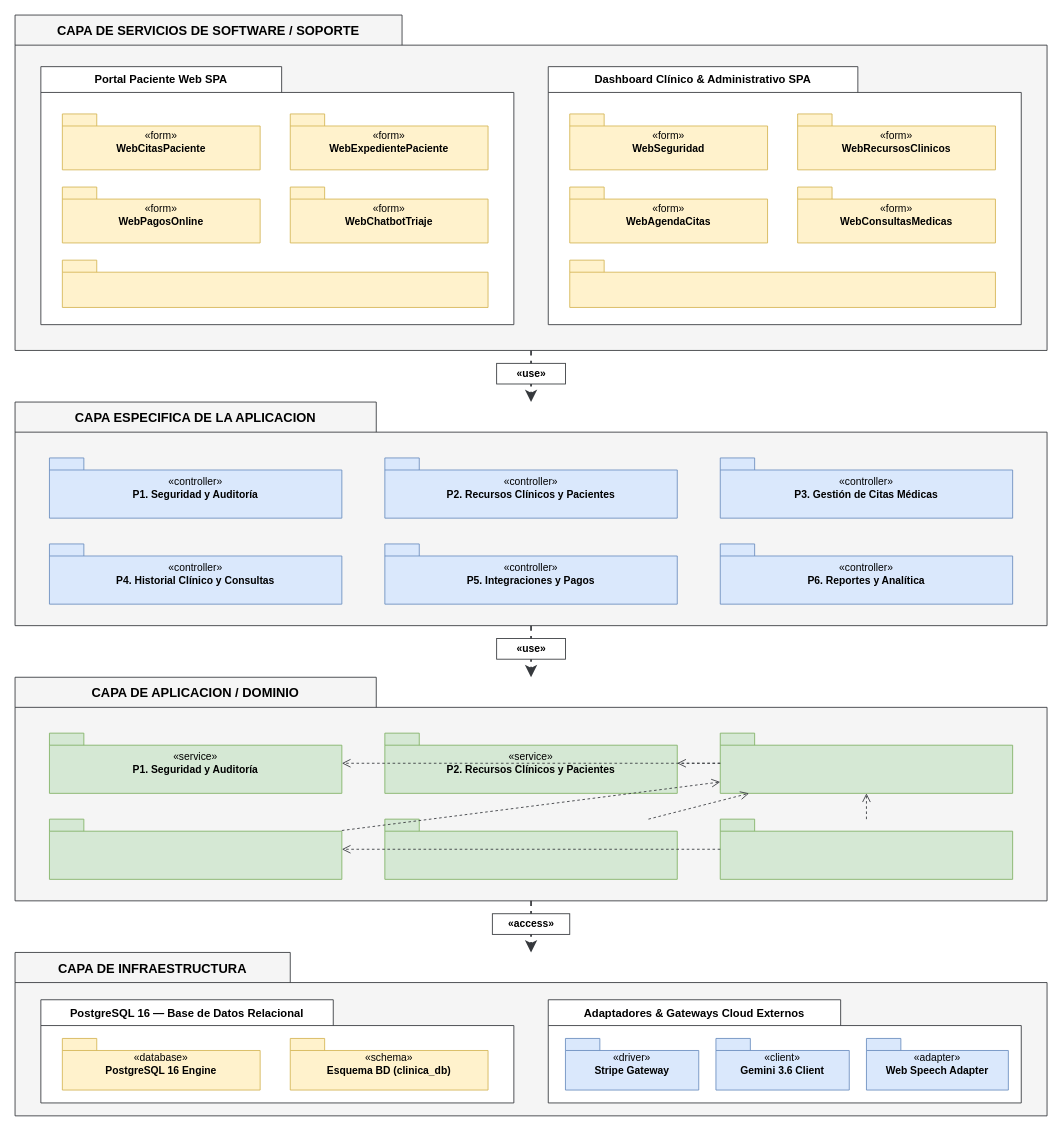
Some shapes in this 1062 by 1131 pixel diagram are drawn without their labels. The shapes that lost their labels are listed below. From the top down, each one's centre as x and y in pixels, then its label:
At (x=274, y=283): "«form» WebPerfilPaciente".
At (x=782, y=283): "«form» WebReportesAnalitica".
At (x=866, y=762): "«service» P3. Gestión de Citas Médicas".
At (x=195, y=848): "«service» P4. Historial Clínico y Consultas".
At (x=530, y=848): "«service» P5. Integraciones y Pagos".
At (x=866, y=848): "«service» P6. Reportes y Analítica".
